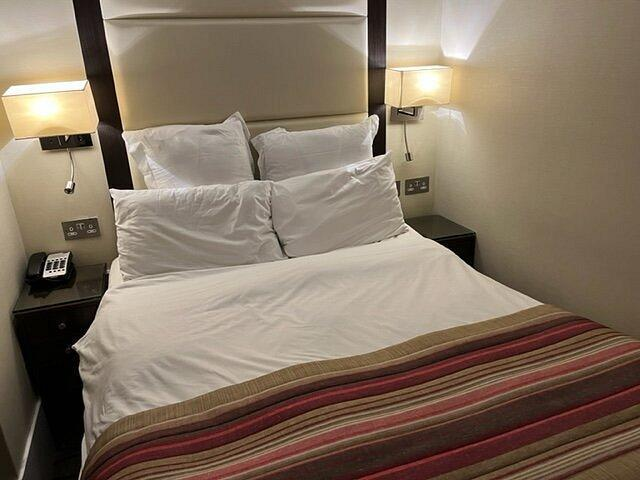Disorganized_pillow: (112, 114, 408, 281)
clean_bed: (105, 256, 640, 480)
lamp: (4, 81, 97, 199), (391, 71, 457, 151)
